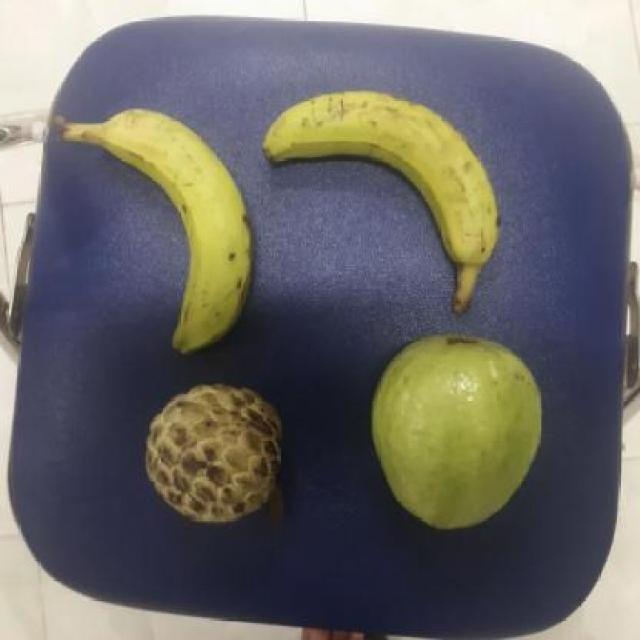banana: (251, 84, 504, 276), (87, 103, 255, 360)
guava: (362, 326, 544, 529)
sugar apple: (138, 377, 288, 525)
